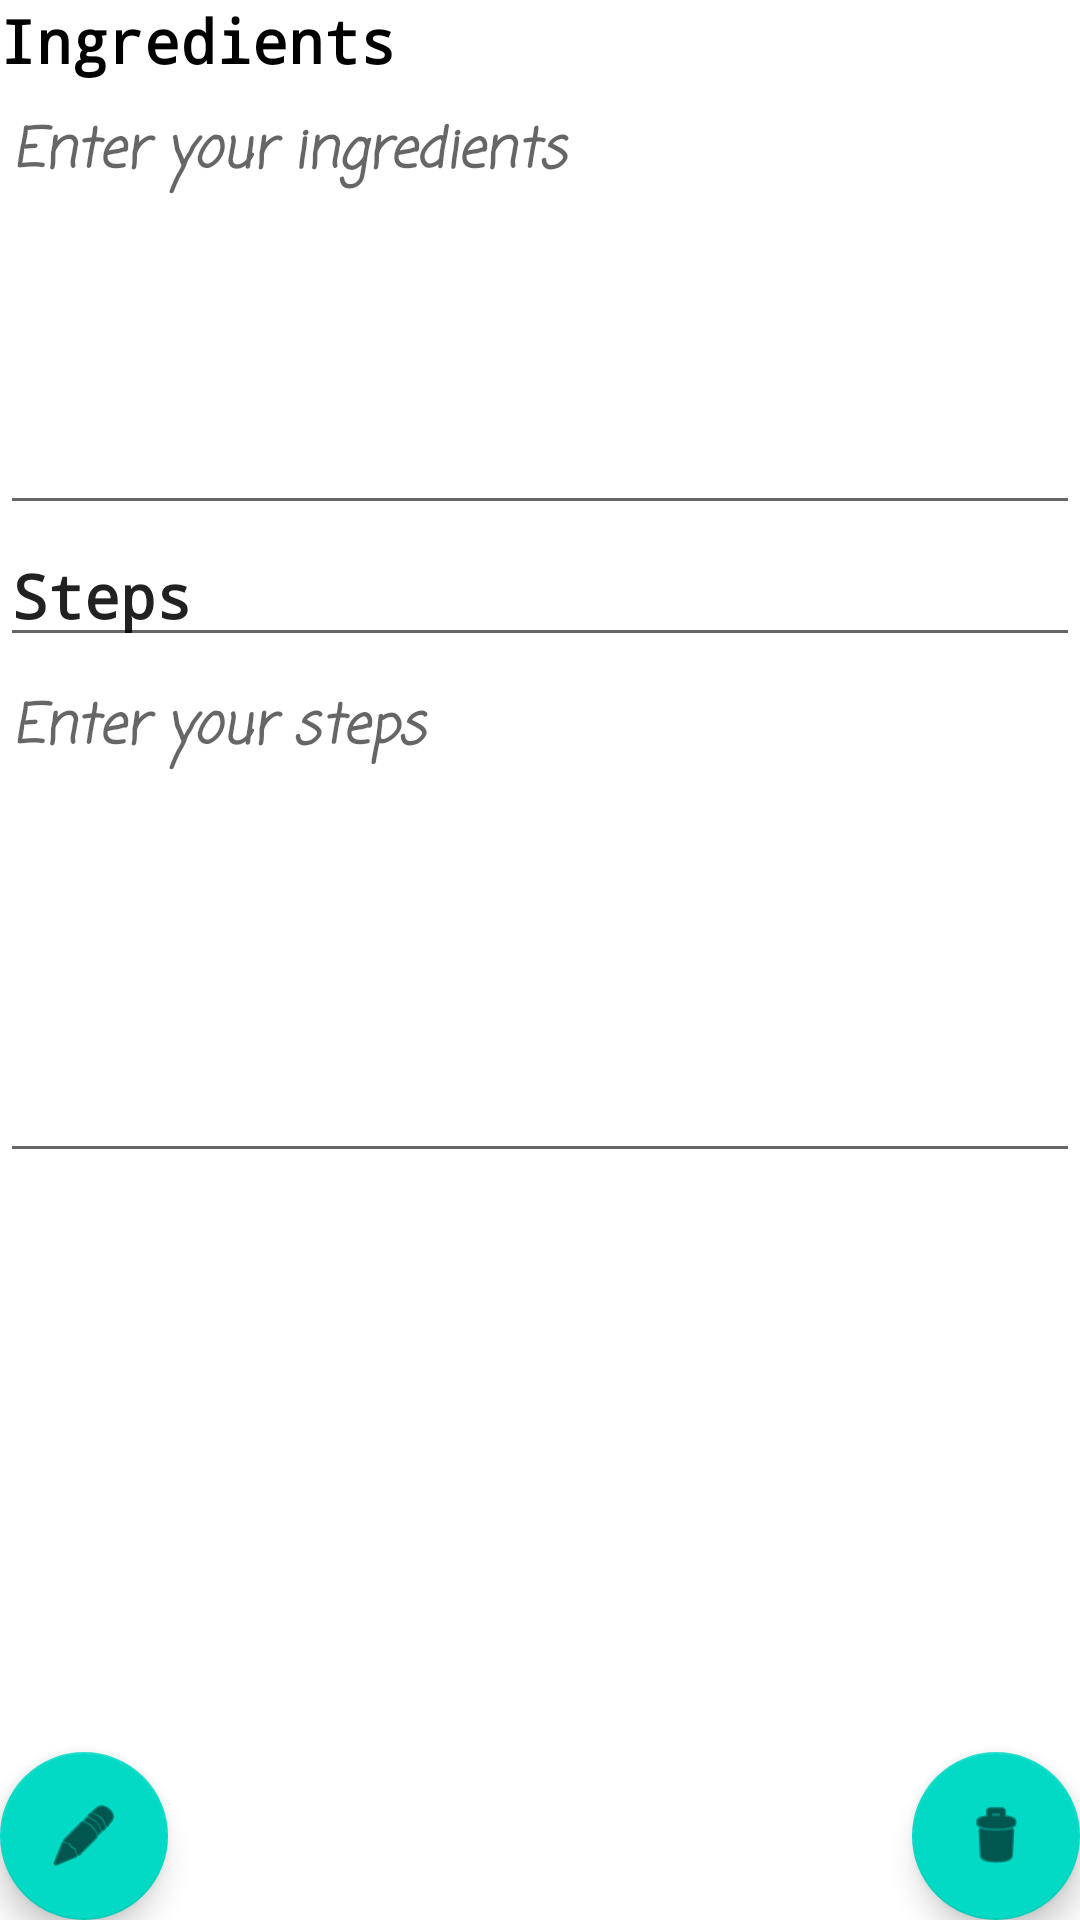

Icon bounding boxes for this 1080 × 1920 phone screenshot, format (x1, y1, x2, y2):
delete: (912, 1752, 1080, 1920)
edit: (0, 1752, 168, 1920)
